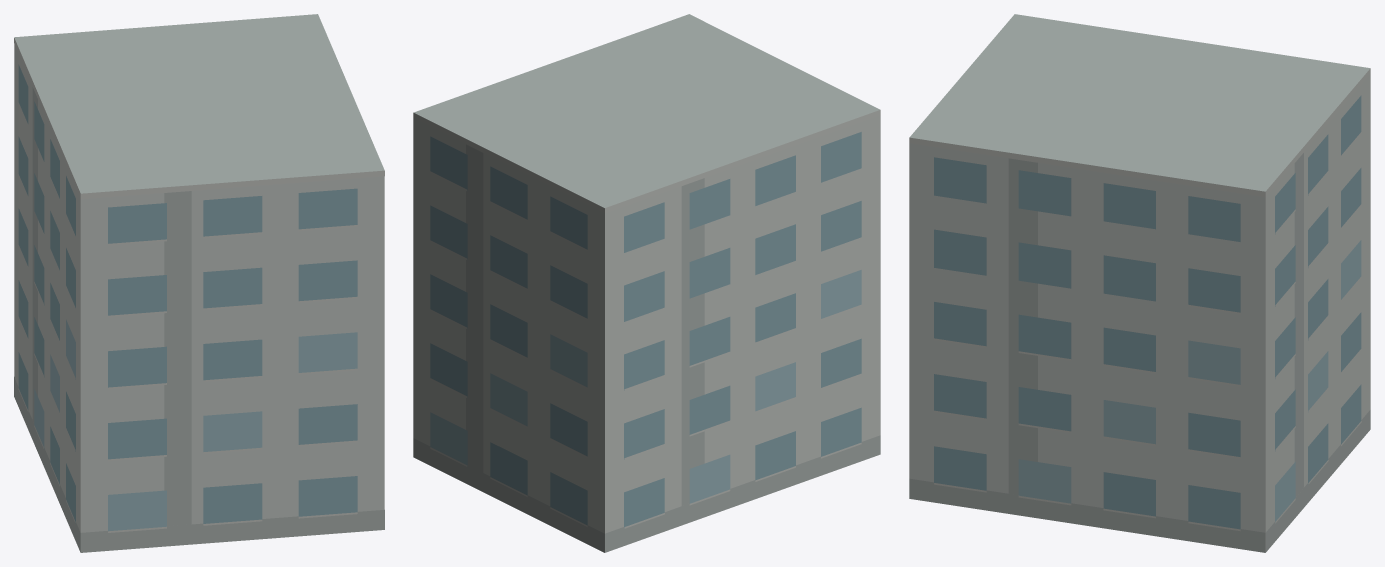
Rendered from residential-39e863cf-6f12-473e-9610-816f36846d5b.glb.
3 views of the same model, side by side, from view 1: azimuth 30°, elevation 25°; view 2: azimuth 150°, elevation 25°; view 3: azimuth 270°, elevation 25° (orthographic). The views are drawn at different scales.
Visible parts, largest first — view 1: residential-39e863cf-6f12-473e-9610-816f36846d5b.tmp; view 2: residential-39e863cf-6f12-473e-9610-816f36846d5b.tmp; view 3: residential-39e863cf-6f12-473e-9610-816f36846d5b.tmp.
Boxes of the visible parts, left/top/right/bottom form: residential-39e863cf-6f12-473e-9610-816f36846d5b.tmp: left=14, top=14, right=384, bottom=552; residential-39e863cf-6f12-473e-9610-816f36846d5b.tmp: left=413, top=14, right=880, bottom=552; residential-39e863cf-6f12-473e-9610-816f36846d5b.tmp: left=909, top=14, right=1370, bottom=552.
Bounding box in the file's own units: 16.09 × 15.25 × 17.66.
